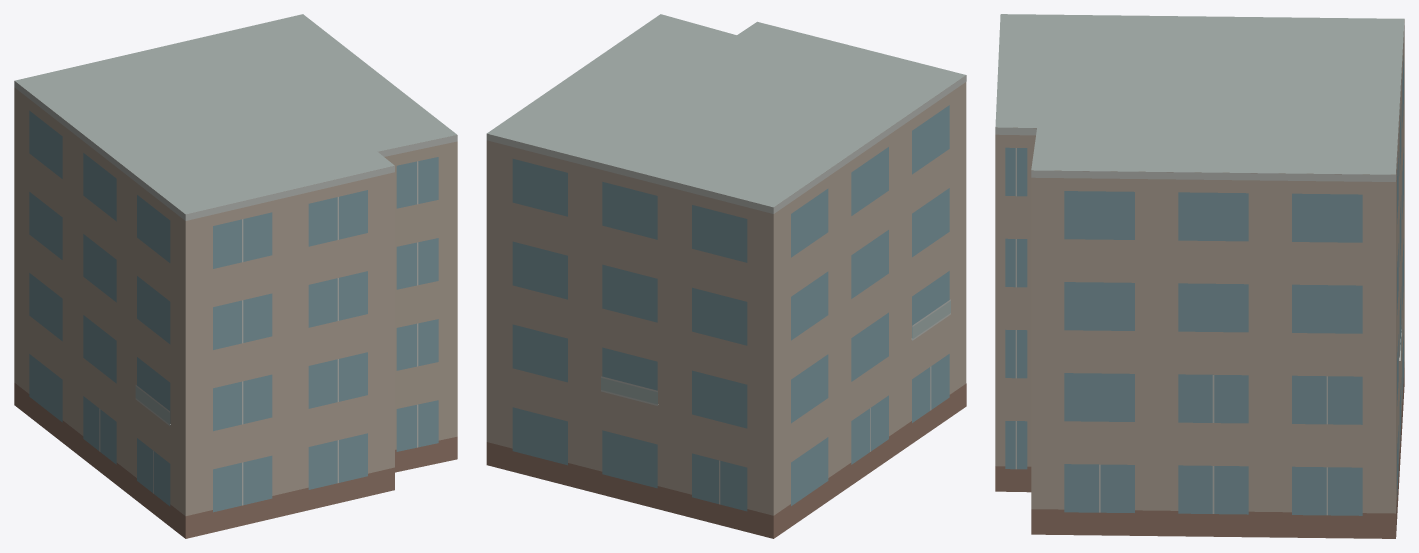
Rendered from survey-upis-32937233.glb.
The picture shows the model from 3 angles, left to right: view 1: azimuth 30°, elevation 25°; view 2: azimuth 150°, elevation 25°; view 3: azimuth 270°, elevation 25°; orthographic projection. The views are drawn at different scales.
Visible parts, largest first — view 1: survey-upis-32937233.tmp; view 2: survey-upis-32937233.tmp; view 3: survey-upis-32937233.tmp.
Part boxes in pixels (<box>): survey-upis-32937233.tmp: <box>14,14,457,538</box>; survey-upis-32937233.tmp: <box>486,14,966,538</box>; survey-upis-32937233.tmp: <box>995,14,1404,538</box>.
Size of the model in its own units: 11.47 by 12.1 by 12.33.
